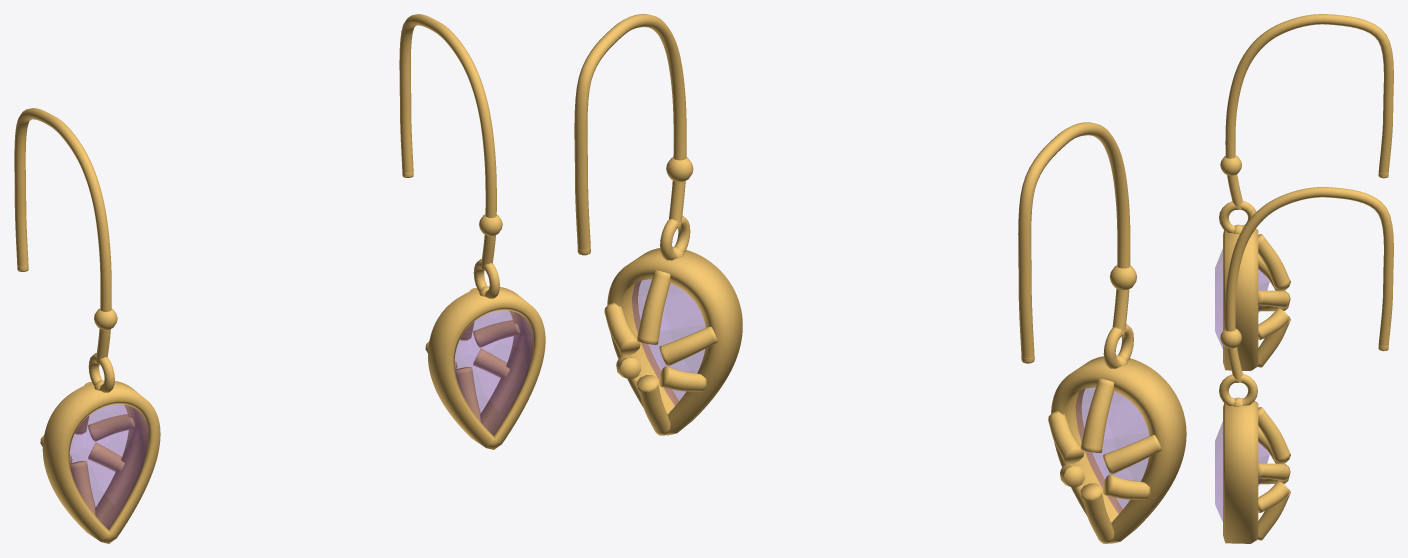
File: Earring_Drops_Preview.glb
The picture shows the model from 3 angles, left to right: view 1: azimuth 30°, elevation 25°; view 2: azimuth 150°, elevation 25°; view 3: azimuth 270°, elevation 25°; orthographic projection. The views are drawn at different scales.
Parts seen in each view (by area): view 1: Bezel.001, Bezel, PreviewGem_Center, PreviewGem_Pair, Attach_Bail.001, Attach_Bail; view 2: Bezel, Bezel.001, Attach_Bail.001, Attach_Bail, PreviewGem_Center, PreviewGem_Pair; view 3: Bezel, Bezel.001, Attach_Bail, Attach_Bail.001, PreviewGem_Center, PreviewGem_Pair.
Boxes of the visible parts, left/top/right/bottom form: Bezel.001: left=40, top=381, right=160, bottom=543; Bezel: left=425, top=287, right=545, bottom=449; PreviewGem_Center: left=455, top=310, right=533, bottom=435; PreviewGem_Pair: left=70, top=404, right=148, bottom=529; Attach_Bail.001: left=14, top=108, right=117, bottom=392; Attach_Bail: left=399, top=14, right=502, bottom=298; Bezel: left=604, top=248, right=742, bottom=435; Bezel.001: left=1048, top=356, right=1186, bottom=543; Attach_Bail.001: left=1018, top=122, right=1136, bottom=368; Attach_Bail: left=574, top=14, right=693, bottom=260; PreviewGem_Center: left=632, top=279, right=705, bottom=405; PreviewGem_Pair: left=1076, top=388, right=1148, bottom=513; Bezel: left=1223, top=398, right=1290, bottom=543; Bezel.001: left=1223, top=225, right=1290, bottom=370; Attach_Bail: left=1219, top=187, right=1393, bottom=407; Attach_Bail.001: left=1219, top=14, right=1393, bottom=234; PreviewGem_Center: left=1215, top=422, right=1269, bottom=521; PreviewGem_Pair: left=1215, top=249, right=1269, bottom=348.
Bounding box in the file's own units: 0.0356 × 0.0269 × 0.0122.
